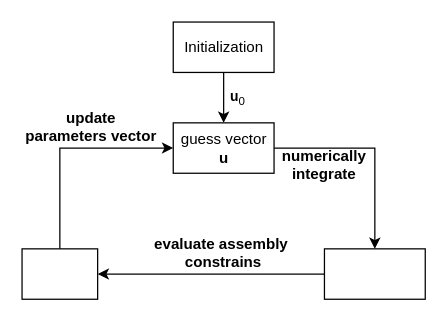
Some shapes in this 447 by 323 pixel diagram are drawn without their labels. Each missing label, with the centre of its shape:
"residual vector r" belongs at (59,273).
"robot model" belongs at (374,273).
